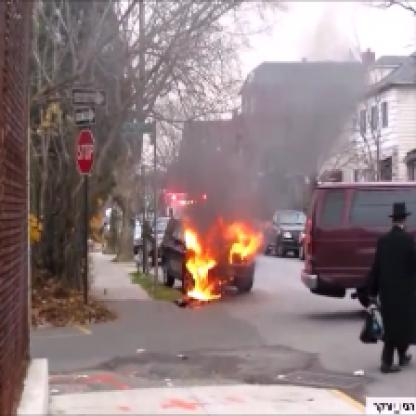Fire: (178, 188, 254, 304)
